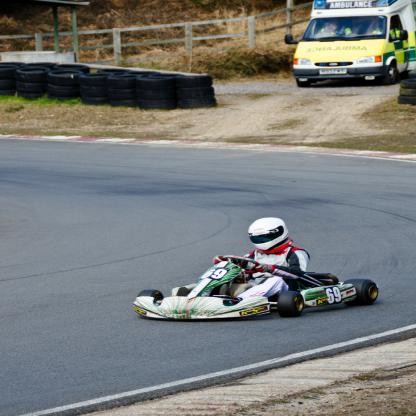Ambulance: (281, 0, 415, 89)
